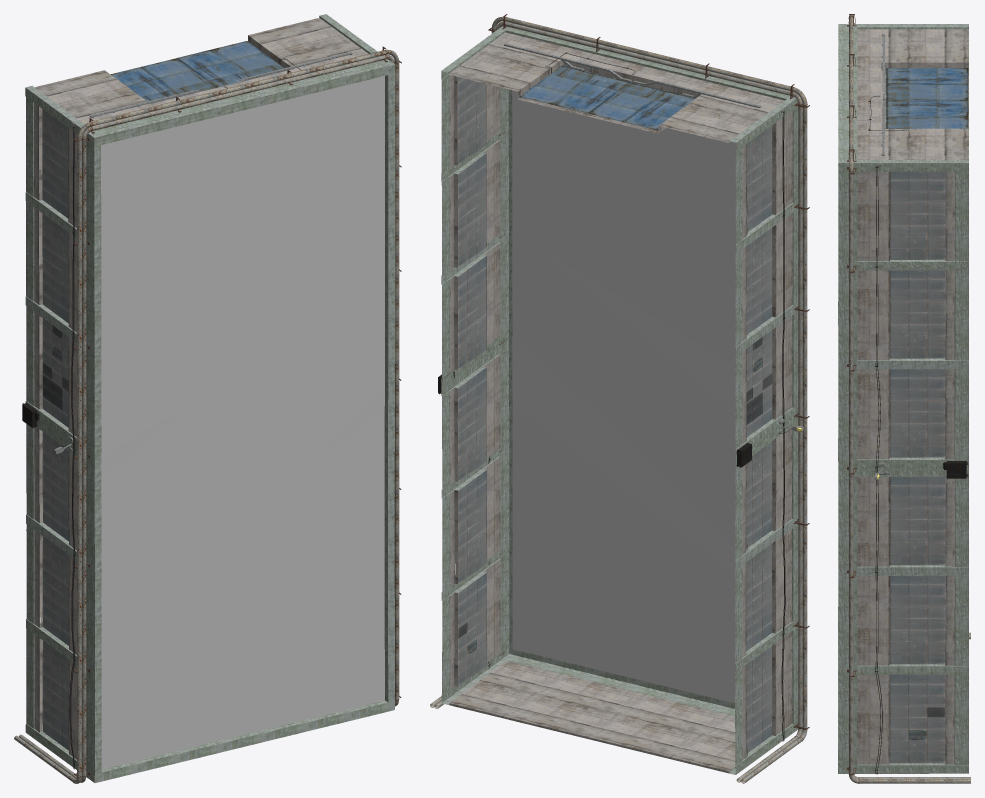
File: lagerhalle_2.fbx
3 views of the same model, side by side, from view 1: azimuth 30°, elevation 25°; view 2: azimuth 150°, elevation 25°; view 3: azimuth 270°, elevation 25° (orthographic). The views are drawn at different scales.
Parts seen in each view (by area): view 1: MDL-Objec1; view 2: MDL-Objec1; view 3: MDL-Objec1.
Boxes of the visible parts, left/top/right/bottom form: MDL-Objec1: left=14, top=14, right=401, bottom=783; MDL-Objec1: left=430, top=14, right=809, bottom=783; MDL-Objec1: left=838, top=14, right=970, bottom=783.
Bounding box in the file's own units: 24.72 × 46.08 × 8.82.
